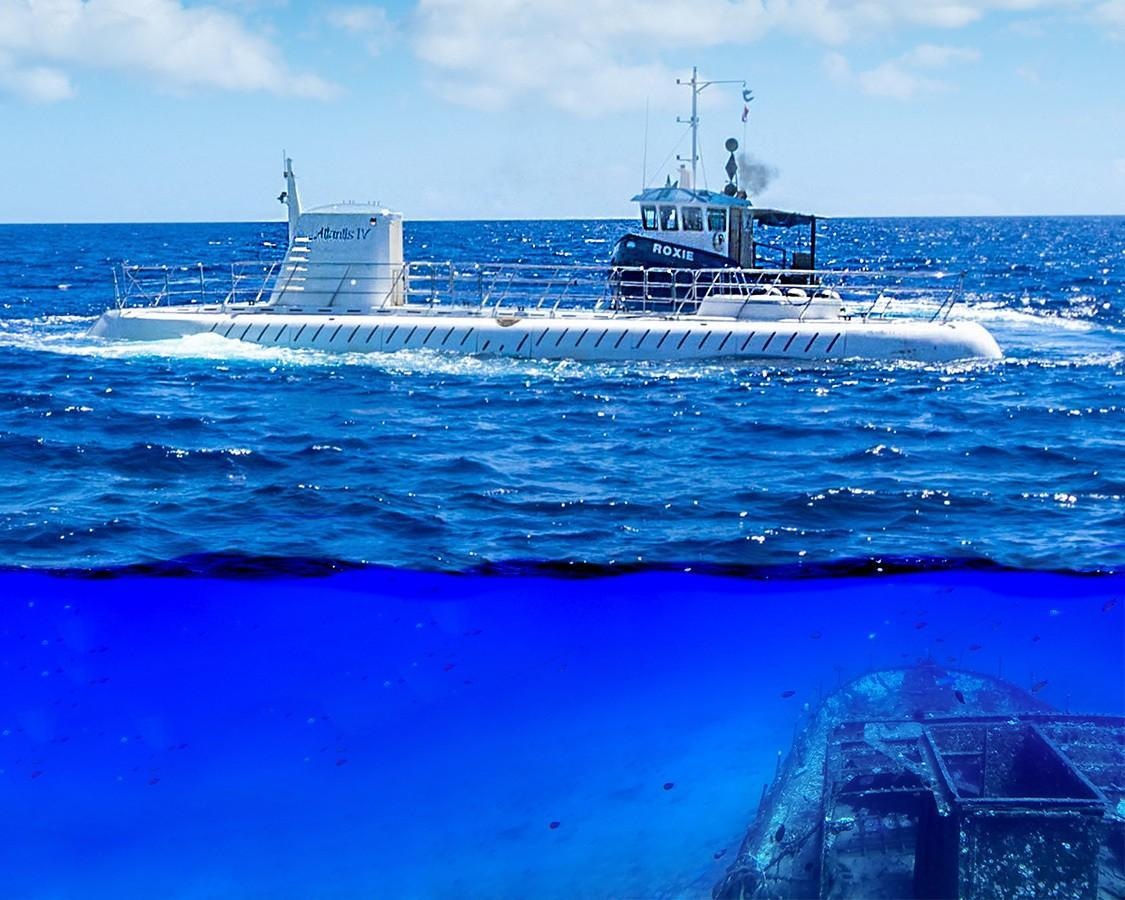Submarine: (27, 145, 610, 415)
